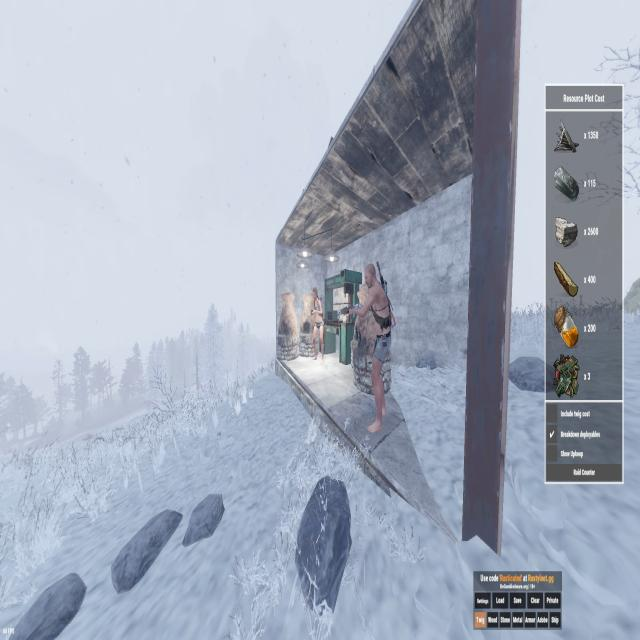Player: (362, 259, 394, 440), (309, 284, 326, 366)
